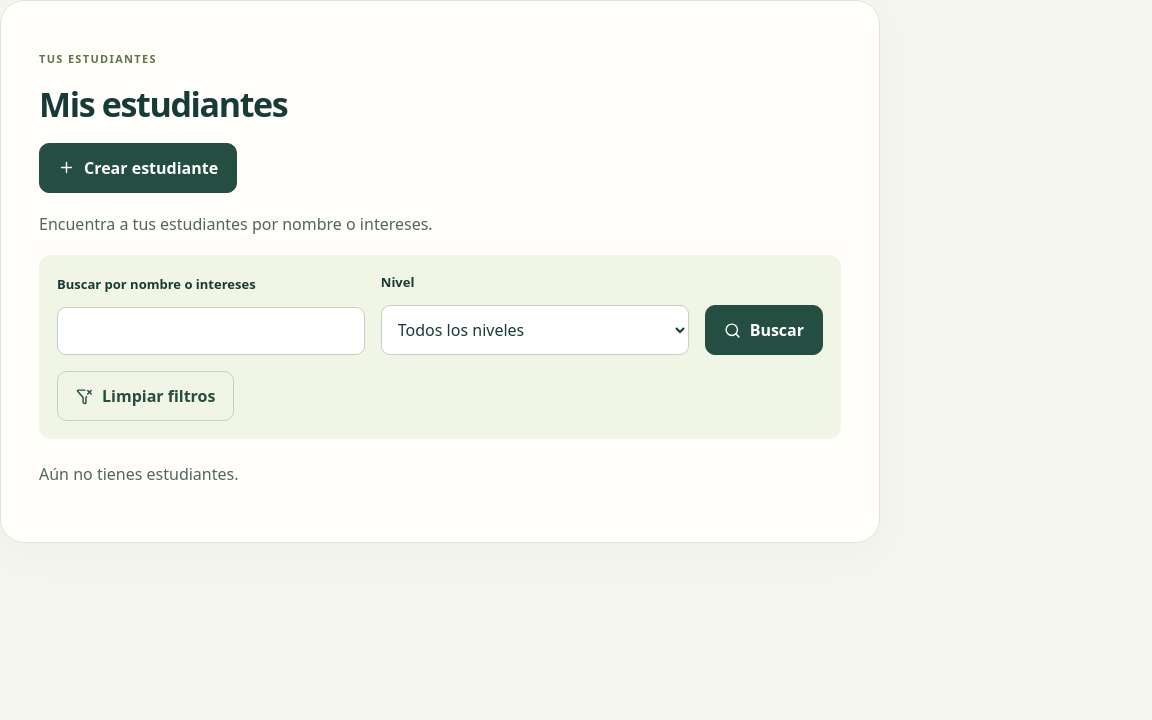
it: offers to clear the filters when the filtered listing is empty, and restores the full list
Expected: the text "Aún no tienes estudiantes." is shown, [39,463,238,485]
Type "nadie" into the search field labelled "Buscar por nombre o intereses".
click(211, 331); type("nadie")  # box [57,307,365,355]
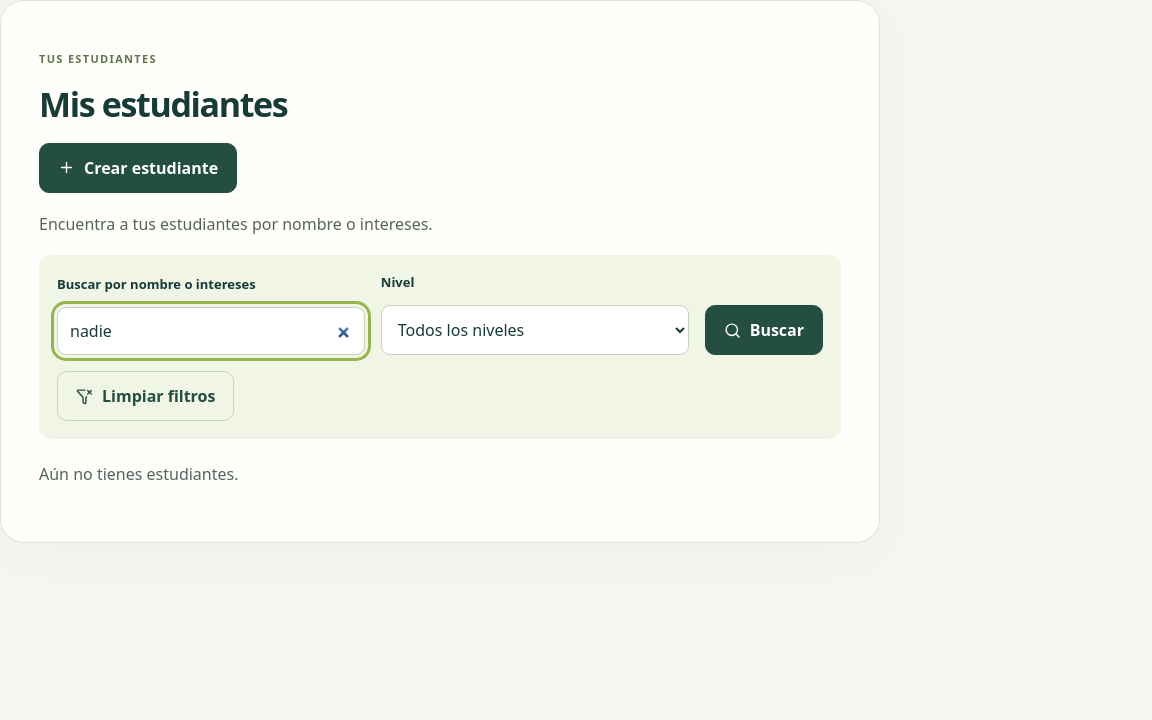
Click the button "Buscar".
click(764, 330)  # box [705,305,823,355]
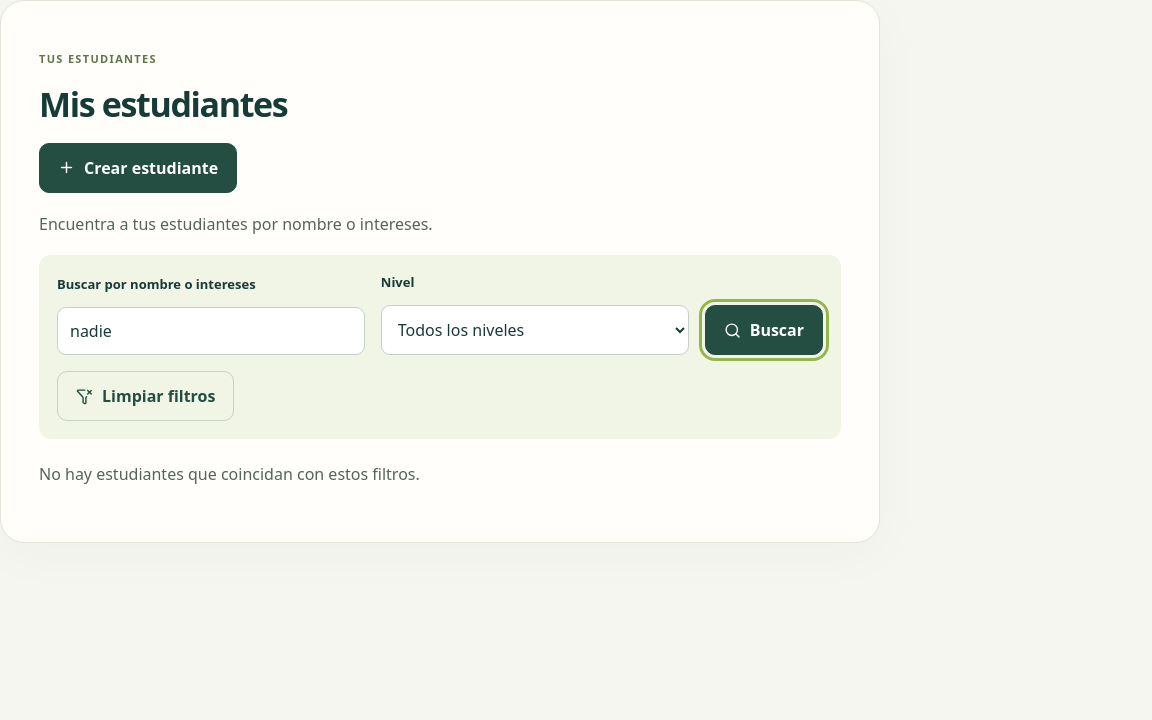
Expected: the text "No hay estudiantes que coincidan con estos filtros." is shown, [39,463,420,485]
Click the button "Limpiar filtros".
click(146, 396)  # box [57,371,234,421]
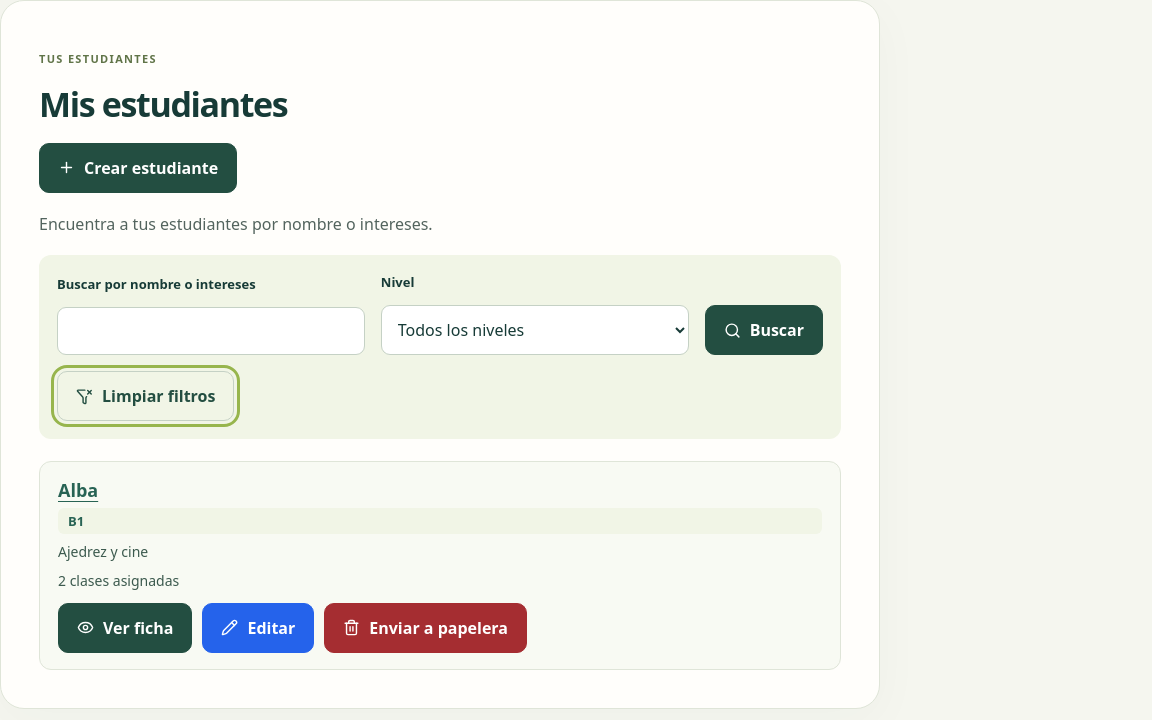
Expected: the link "Alba" is shown, [58,478,98,502]
